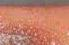plaque psoriasis: (0, 34, 56, 45)
